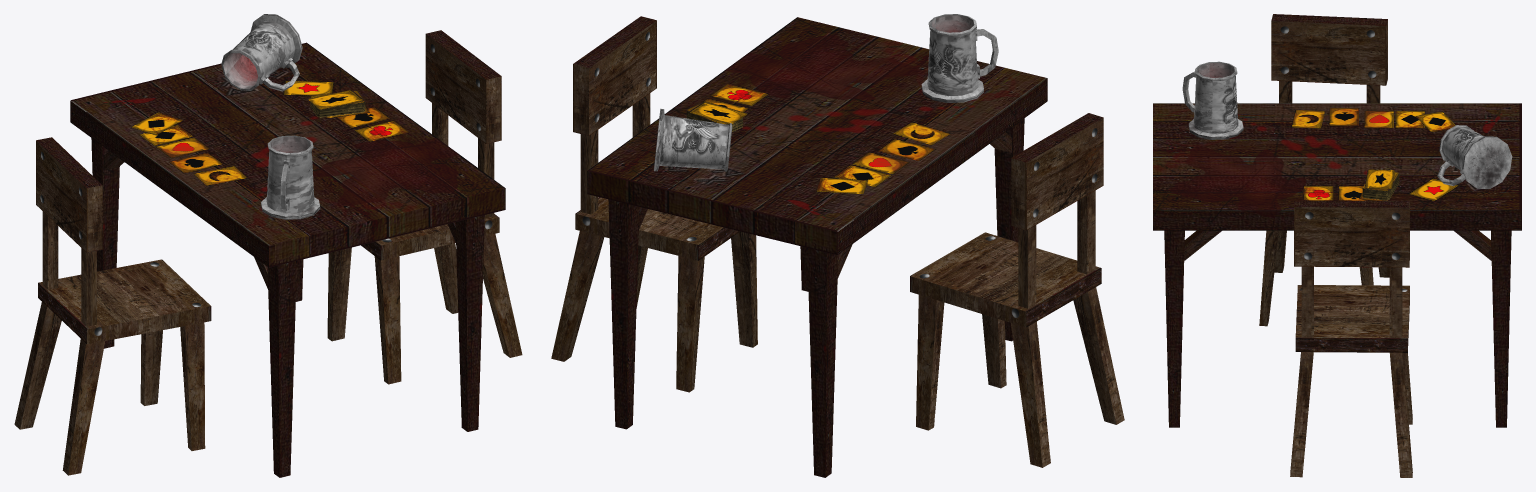
The model's file is CardTable.fbx.
The picture shows the model from 3 angles, left to right: view 1: azimuth 30°, elevation 25°; view 2: azimuth 150°, elevation 25°; view 3: azimuth 270°, elevation 25°; orthographic projection. The views are drawn at different scales.
Visible parts, largest first — view 1: CardTable:Mesh; view 2: CardTable:Mesh; view 3: CardTable:Mesh.
Boxes of the visible parts, x1,y1,x2,y2 form: CardTable:Mesh: (14, 14, 522, 477); CardTable:Mesh: (551, 14, 1124, 477); CardTable:Mesh: (1153, 14, 1521, 477).
Size of the model in its own units: 2.16 by 1.36 by 1.59.
